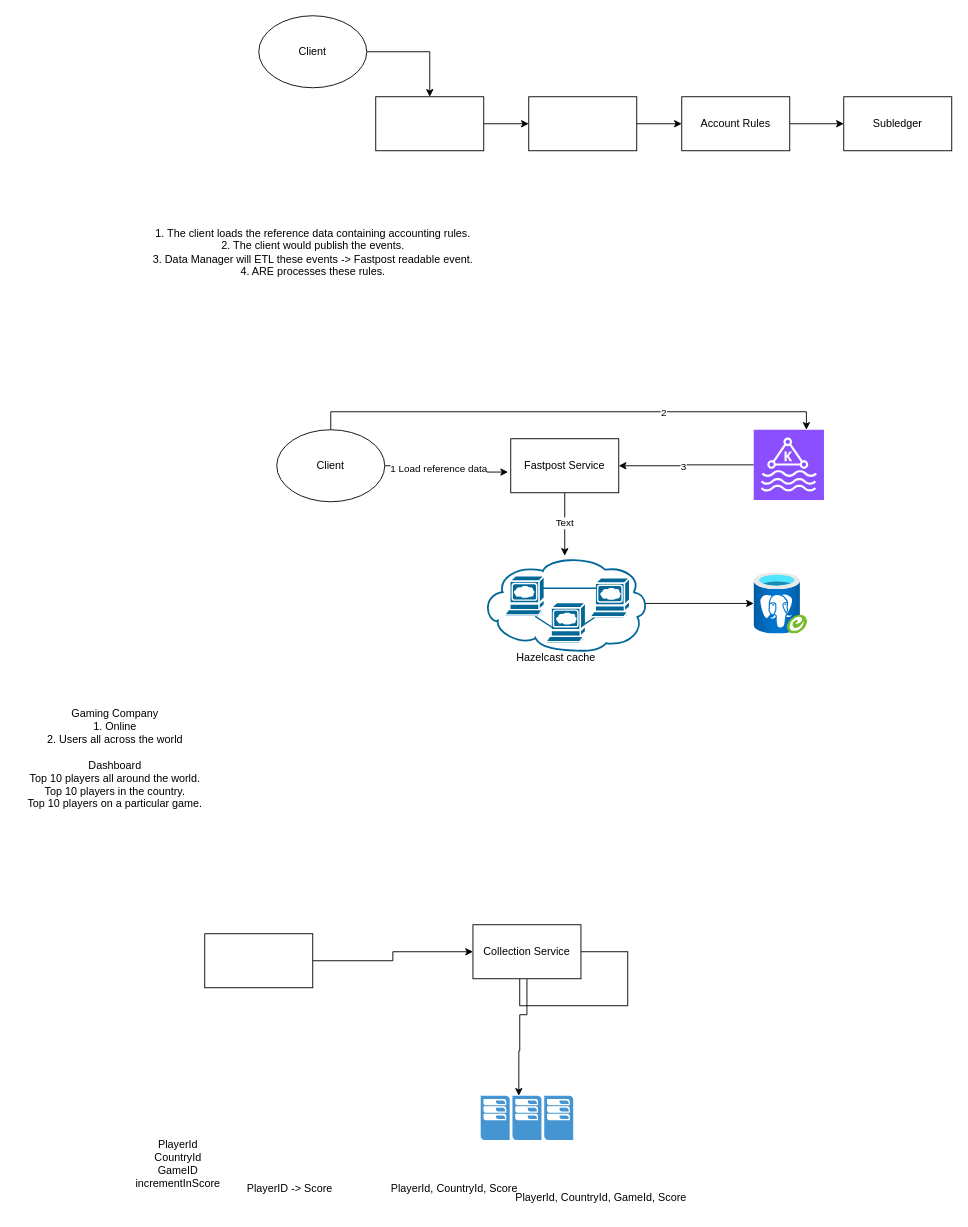
Image size: 968x1227. Some labels were removed from this diagram. Each missing label, with the box of its shape:
BEM: (528, 96, 637, 151)
Data Manager: (375, 96, 484, 151)
Queue: (204, 933, 313, 988)
